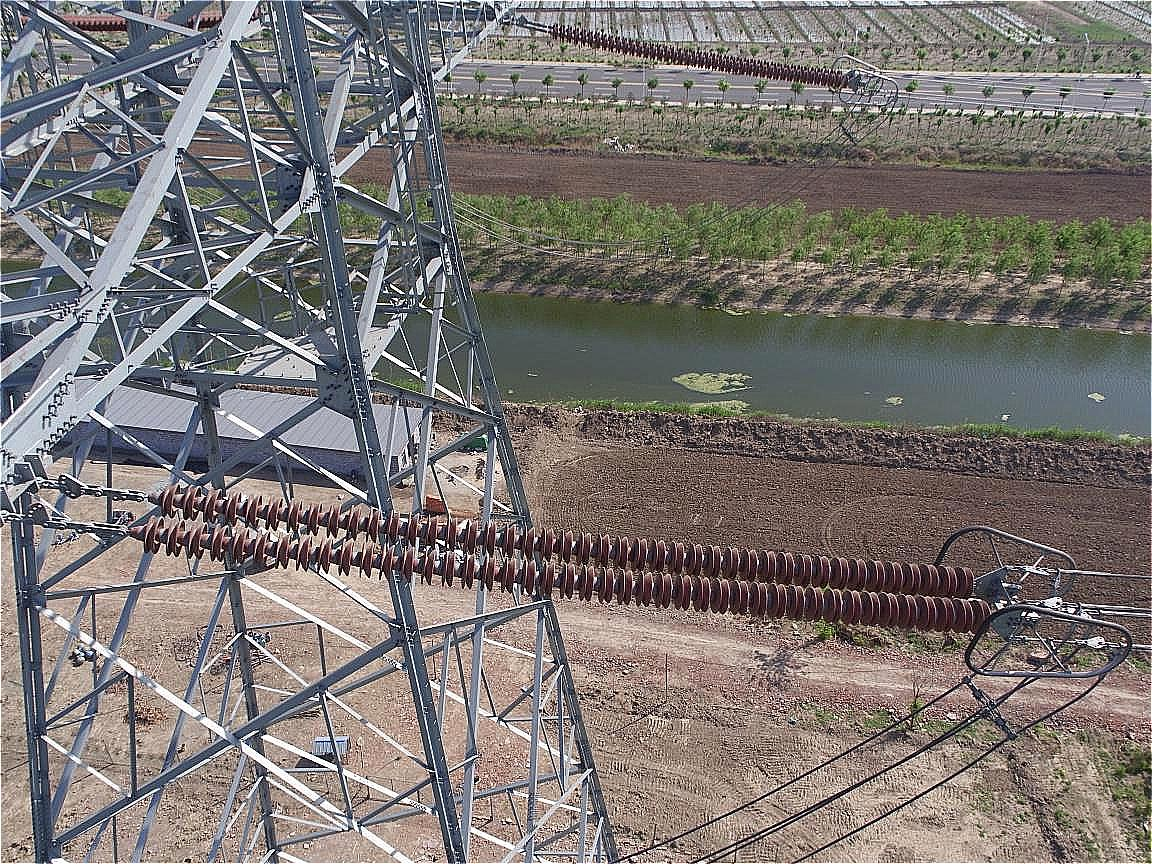insultor2: (106, 479, 1004, 643)
